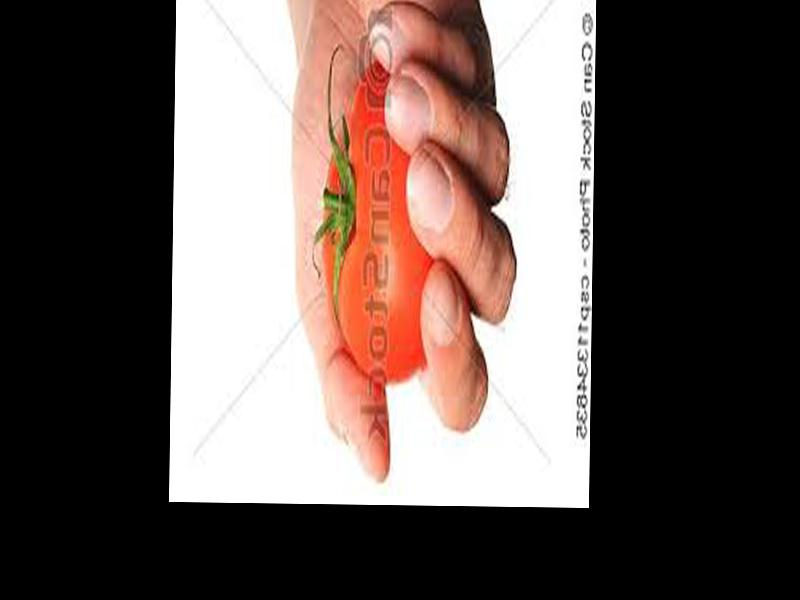Tomato: (323, 63, 433, 384)
